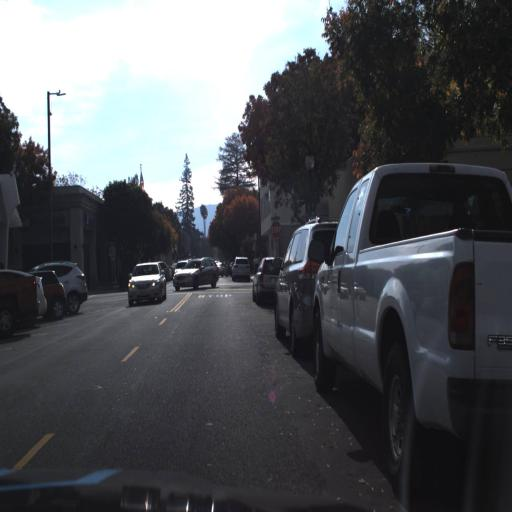car: (301, 149, 509, 497), (271, 213, 343, 364), (270, 215, 323, 358), (0, 268, 47, 330), (124, 257, 167, 309), (172, 255, 219, 294), (62, 254, 87, 317), (249, 253, 276, 311), (46, 269, 66, 321), (35, 273, 48, 322)
